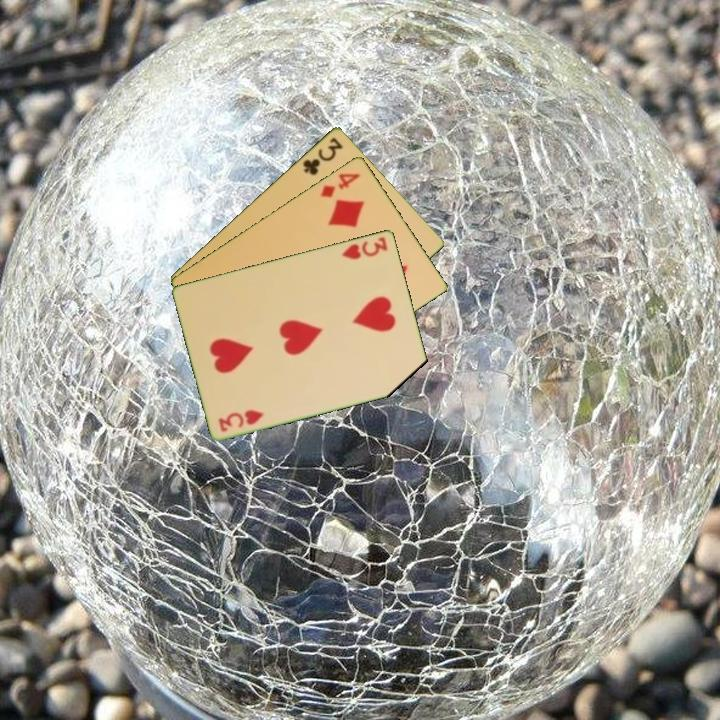3c: (299, 133, 346, 178)
3h: (339, 233, 391, 262), (215, 406, 267, 434)
4d: (317, 169, 363, 200)
